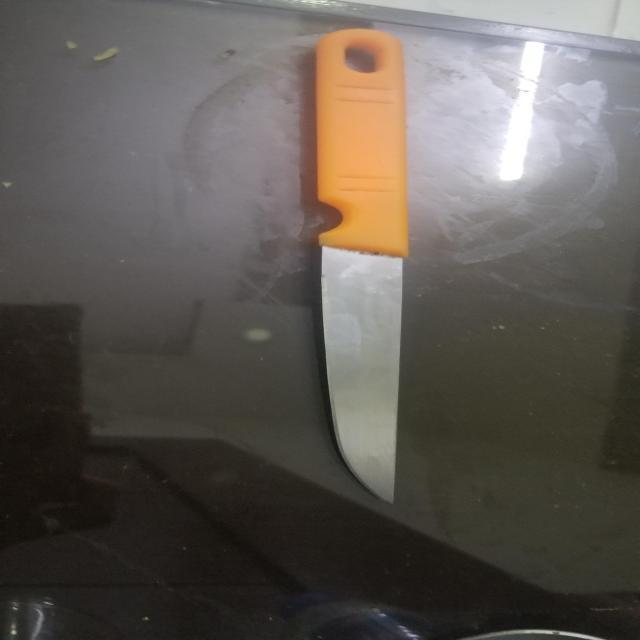Knife: (295, 21, 415, 510)
